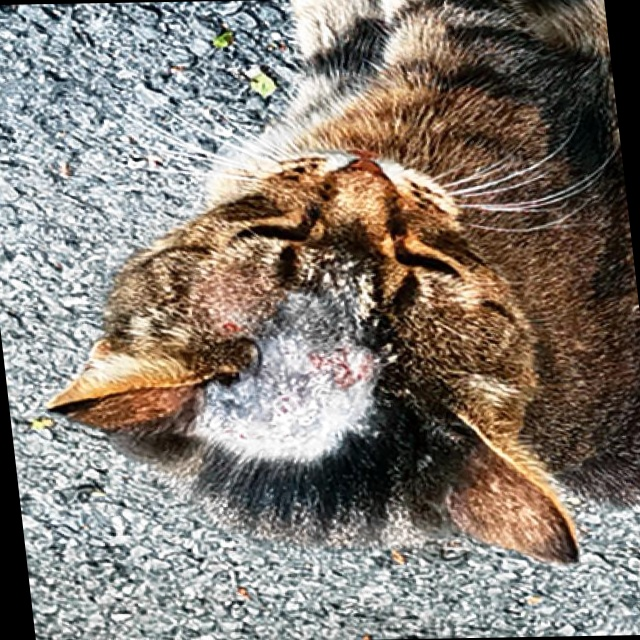ringworm: (173, 266, 386, 469)
